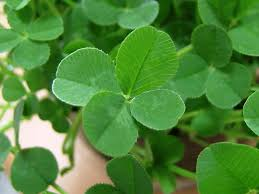4-clover: (56, 26, 184, 151)
